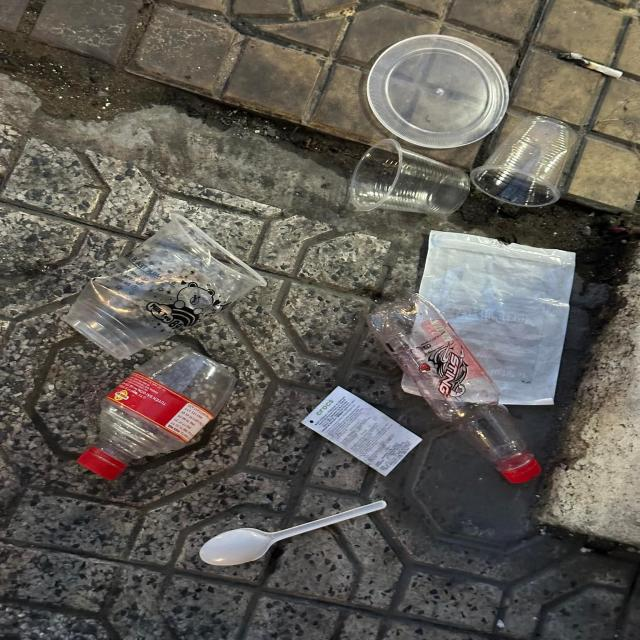bottle: (367, 293, 542, 483), (76, 345, 237, 481)
lid: (367, 34, 509, 149)
packet: (401, 230, 576, 405)
plastic glass: (64, 213, 267, 360), (469, 115, 577, 207), (350, 138, 470, 214)
plastic utensil: (199, 500, 387, 566)
